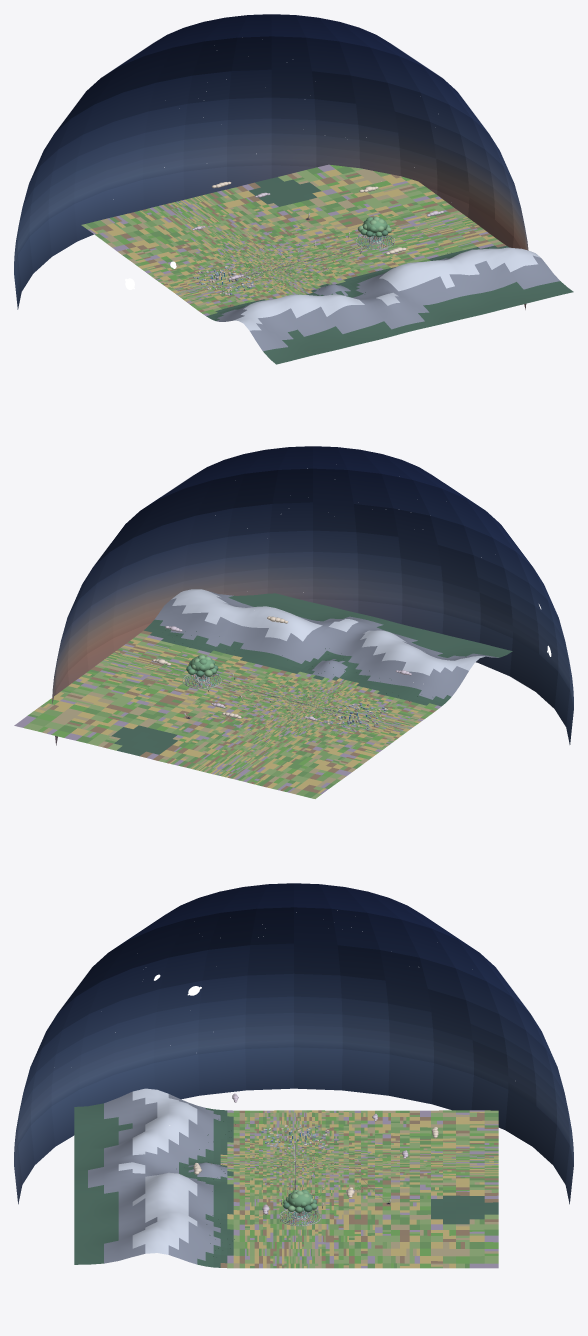
The model's file is m8_overlook.glb.
3 views of the same model, one above another, from view 1: azimuth 30°, elevation 25°; view 2: azimuth 150°, elevation 25°; view 3: azimuth 270°, elevation 25° (orthographic). The views are drawn at different scales.
Parts seen in each view (by area): view 1: SKY_dawn_sky, plain_field_wheat_far, plain_mount_rock_far, plain_field_green_far, plain_forest_far_far, plain_mount_snow_far, plain_meadow_far, plain_field_lush_far, plain_field_soil_far, plain_field_fallow_far, plain_grass_d_far, plain_field_flower_far; view 2: SKY_dawn_sky, plain_mount_rock_far, plain_field_wheat_far, plain_field_green_far, plain_forest_far_far, plain_meadow_far, plain_mount_snow_far, plain_field_lush_far, plain_field_fallow_far, plain_field_soil_far, plain_grass_d_far, plain_field_flower_far; view 3: SKY_dawn_sky, plain_field_wheat_far, plain_forest_far_far, plain_mount_rock_far, plain_field_green_far, plain_mount_snow_far, plain_meadow_far, plain_field_lush_far, plain_field_fallow_far, plain_field_soil_far, plain_field_flower_far, plain_grass_d_far.
Part boxes in pixels (<box>): SKY_dawn_sky: <box>14,14,528,309</box>; plain_field_wheat_far: <box>90,169,494,307</box>; plain_mount_rock_far: <box>216,255,559,351</box>; plain_field_green_far: <box>81,167,502,310</box>; plain_forest_far_far: <box>206,177,573,364</box>; plain_mount_snow_far: <box>234,247,540,330</box>; plain_meadow_far: <box>93,172,497,314</box>; plain_field_lush_far: <box>86,166,492,309</box>; plain_field_soil_far: <box>92,173,505,312</box>; plain_field_fallow_far: <box>100,169,500,310</box>; plain_grass_d_far: <box>119,165,472,312</box>; plain_field_flower_far: <box>88,164,494,315</box>; SKY_dawn_sky: <box>52,446,573,745</box>; plain_mount_rock_far: <box>154,591,498,699</box>; plain_field_wheat_far: <box>34,637,423,793</box>; plain_field_green_far: <box>23,633,426,798</box>; plain_forest_far_far: <box>111,593,512,756</box>; plain_meadow_far: <box>30,637,438,795</box>; plain_mount_snow_far: <box>171,589,484,675</box>; plain_field_lush_far: <box>28,641,418,797</box>; plain_field_fallow_far: <box>37,635,431,794</box>; plain_field_soil_far: <box>49,630,435,793</box>; plain_grass_d_far: <box>37,645,433,784</box>; plain_field_flower_far: <box>14,635,441,794</box>; SKY_dawn_sky: <box>14,883,573,1204</box>; plain_field_wheat_far: <box>220,1110,498,1268</box>; plain_forest_far_far: <box>74,1103,498,1267</box>; plain_mount_rock_far: <box>88,1091,227,1264</box>; plain_field_green_far: <box>220,1110,498,1268</box>; plain_mount_snow_far: <box>118,1088,197,1254</box>; plain_meadow_far: <box>220,1110,498,1268</box>; plain_field_lush_far: <box>220,1110,498,1268</box>; plain_field_fallow_far: <box>220,1110,498,1268</box>; plain_field_soil_far: <box>220,1110,498,1268</box>; plain_field_flower_far: <box>220,1110,498,1268</box>; plain_grass_d_far: <box>227,1110,498,1268</box>.
Bounding box in the file's own units: 13199 × 7746 × 13199.
